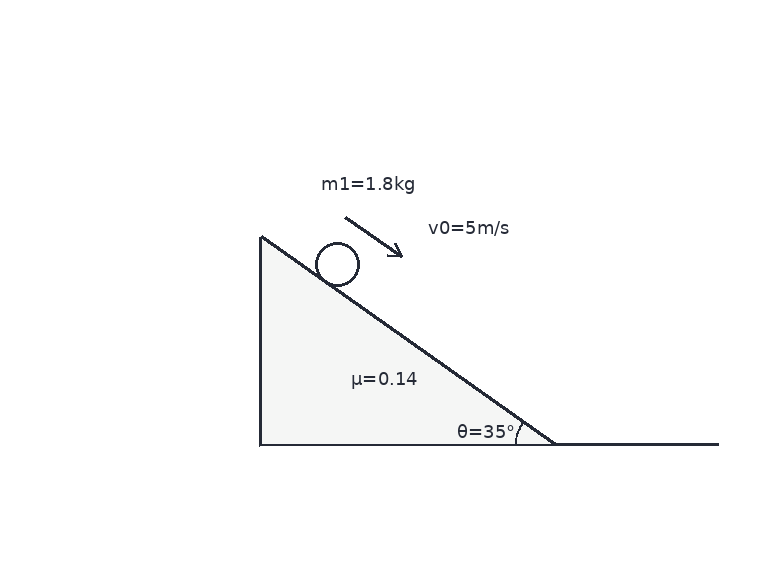ball: (313, 240, 361, 288)
ramp: (258, 235, 558, 446)
